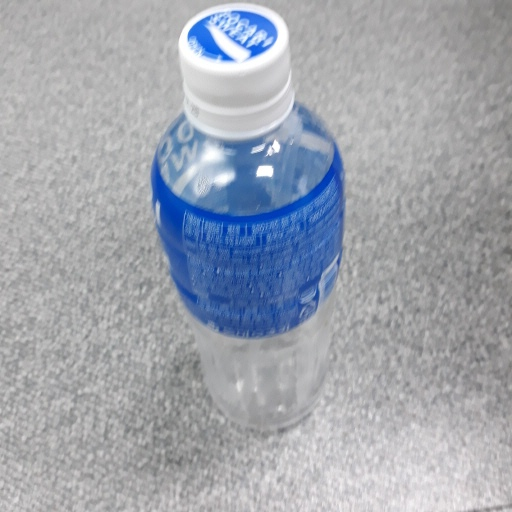Plastic_0: (148, 2, 346, 440)
